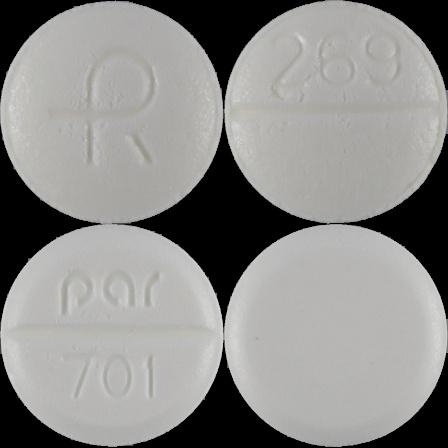49884-685: (0, 0, 224, 224)
